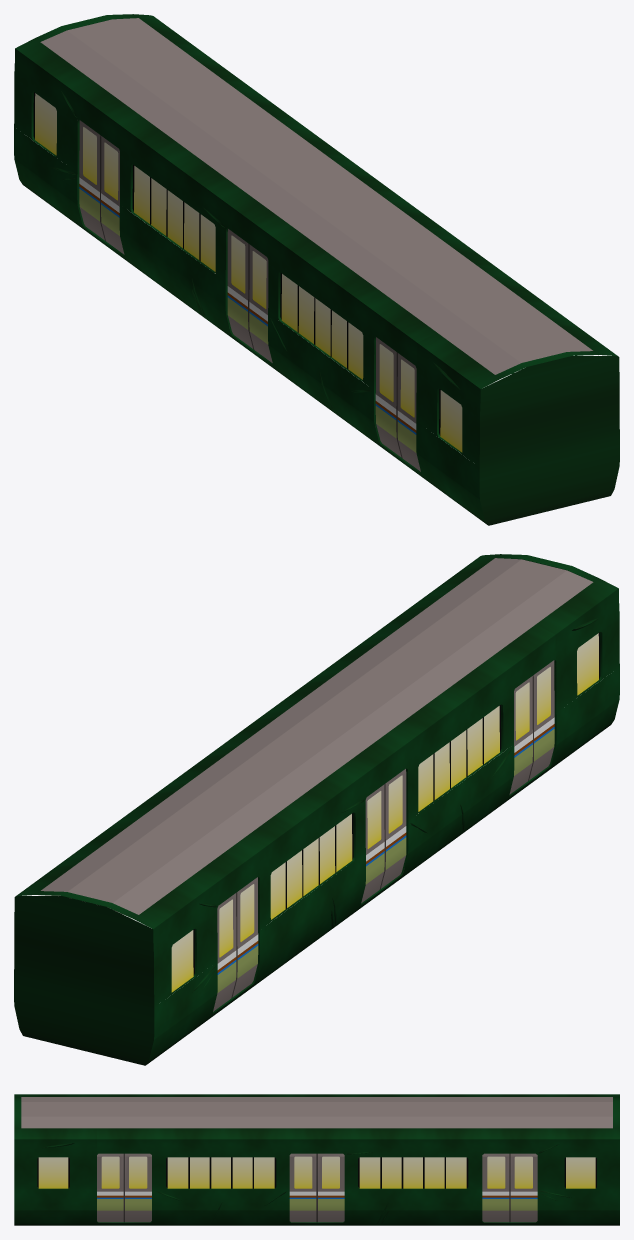
The picture shows the model from 3 angles, top to bottom: view 1: azimuth 30°, elevation 25°; view 2: azimuth 150°, elevation 25°; view 3: azimuth 270°, elevation 25°; orthographic projection. The views are drawn at different scales.
Visible parts, largest first — view 1: mask; view 2: mask; view 3: mask.
Boxes of the visible parts, x1=… form: mask: x1=14, y1=14, x2=619, y2=525; mask: x1=14, y1=554, x2=619, y2=1065; mask: x1=14, y1=1094, x2=619, y2=1225.
Bounding box in the file's own units: 6.83 × 6.82 × 38.5.
Materials: 7 (7 with a texture image).
